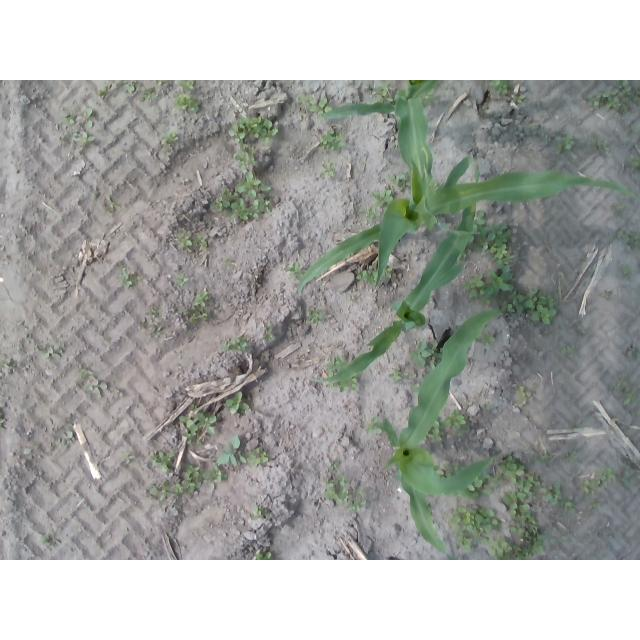Maize: (298, 152, 638, 296), (312, 204, 476, 385), (384, 308, 500, 560), (320, 80, 481, 236)
Weeds: (493, 456, 576, 561), (207, 171, 277, 221), (227, 117, 279, 171), (448, 504, 501, 553), (503, 288, 559, 326), (318, 476, 371, 513), (589, 80, 640, 116), (176, 414, 221, 447), (178, 287, 215, 326), (485, 221, 516, 263), (487, 263, 517, 301), (583, 469, 617, 500), (609, 374, 639, 407), (139, 303, 165, 340), (49, 415, 76, 449), (216, 435, 244, 467), (34, 337, 66, 361), (225, 390, 252, 418), (150, 479, 182, 501), (116, 261, 141, 289), (410, 341, 435, 369), (182, 465, 203, 497), (319, 128, 346, 152), (617, 226, 640, 254), (176, 231, 209, 250), (150, 448, 175, 473), (589, 131, 613, 157), (446, 408, 470, 434), (171, 92, 202, 112), (464, 274, 485, 303), (62, 130, 94, 149), (202, 466, 230, 485), (219, 336, 249, 353), (246, 448, 270, 468), (386, 172, 410, 191), (284, 260, 305, 281), (297, 89, 316, 112), (557, 133, 576, 156), (515, 387, 534, 410), (83, 380, 110, 396), (248, 501, 272, 519), (99, 80, 117, 102), (475, 475, 492, 498), (387, 365, 410, 382), (491, 80, 512, 98), (357, 267, 376, 286), (318, 161, 338, 179), (431, 420, 446, 444), (369, 189, 391, 205), (310, 304, 327, 324), (366, 416, 383, 436), (160, 131, 181, 147), (364, 207, 381, 226), (328, 357, 345, 375), (374, 83, 391, 101), (326, 455, 342, 474), (311, 97, 331, 112), (616, 265, 633, 282), (340, 379, 360, 393), (117, 80, 137, 94), (175, 272, 191, 289), (80, 361, 95, 379), (460, 486, 480, 499), (106, 197, 123, 212), (138, 87, 155, 102), (475, 209, 486, 231), (262, 322, 274, 342), (121, 451, 138, 465), (481, 331, 495, 348), (37, 534, 55, 547), (536, 453, 557, 464), (84, 107, 94, 129), (629, 155, 640, 174), (0, 357, 14, 371), (64, 111, 77, 126), (627, 342, 640, 357), (178, 81, 194, 92), (253, 552, 272, 561), (586, 502, 603, 512), (447, 462, 461, 474), (565, 450, 580, 461), (613, 204, 625, 217), (523, 127, 537, 138), (576, 322, 587, 335), (1, 410, 8, 430), (385, 266, 395, 280), (482, 401, 495, 411), (563, 345, 575, 355), (92, 184, 99, 200), (349, 295, 360, 305), (435, 465, 446, 475), (516, 96, 529, 104), (622, 472, 631, 483), (155, 81, 168, 88), (23, 447, 33, 455), (223, 258, 234, 265), (188, 405, 197, 412)
